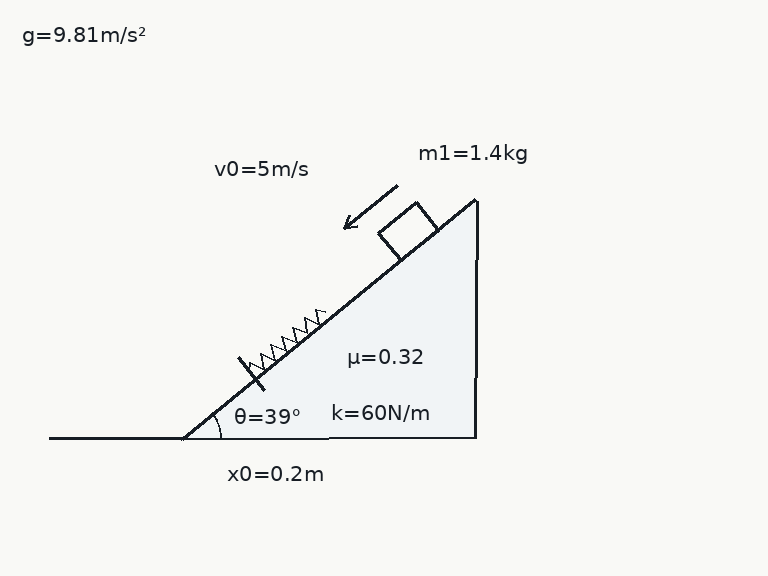block: (376, 200, 440, 262)
ramp: (179, 198, 477, 440)
spring: (247, 307, 327, 374)
